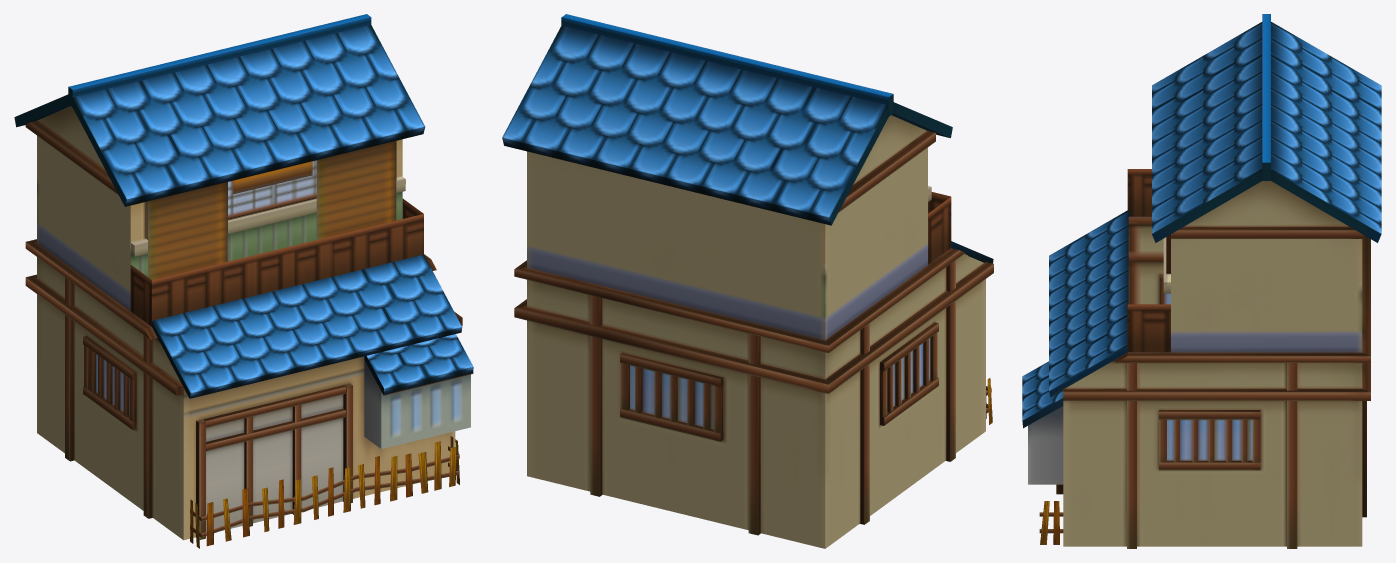
Rendered from house_01.FBX.
The picture shows the model from 3 angles, left to right: view 1: azimuth 30°, elevation 25°; view 2: azimuth 150°, elevation 25°; view 3: azimuth 270°, elevation 25°; orthographic projection. The views are drawn at different scales.
Visible parts, largest first — view 1: house_01; view 2: house_01; view 3: house_01.
Part boxes in pixels (x1,y1,x2,y2): house_01: [14, 14, 473, 548]; house_01: [502, 14, 993, 548]; house_01: [1022, 14, 1381, 548].
Bounding box in the file's own units: 68307 × 83951 × 69690.
